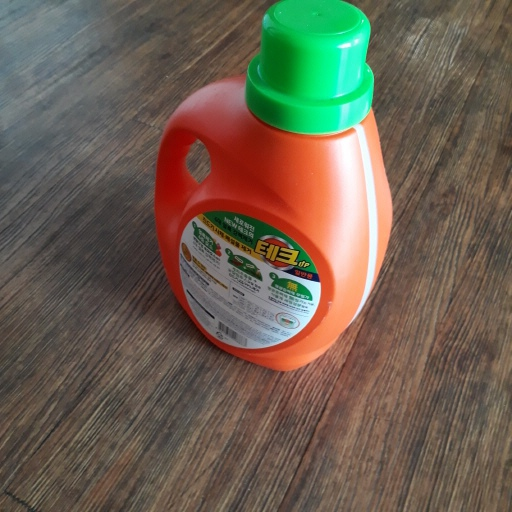Plastic_1: (155, 3, 394, 379)
